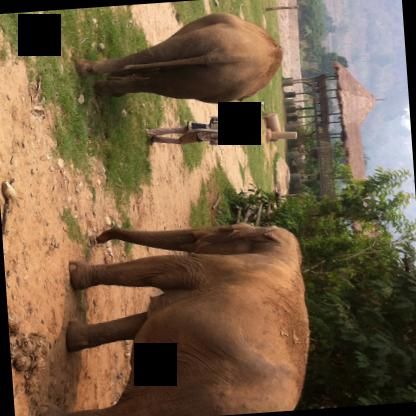handbag: (186, 121, 237, 137)
